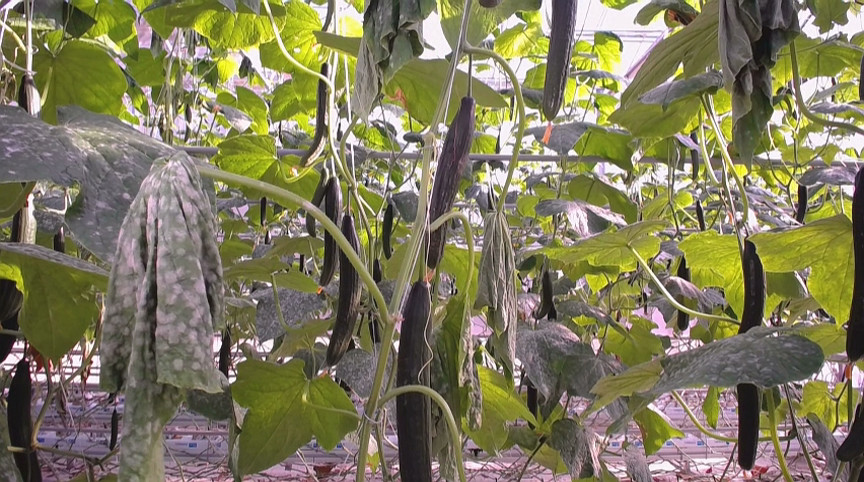cucumber: (427, 96, 477, 267), (399, 281, 433, 482), (326, 217, 359, 367), (544, 1, 580, 122), (8, 362, 39, 481), (301, 62, 332, 167), (319, 176, 343, 286), (738, 238, 763, 337), (737, 382, 759, 470), (19, 74, 45, 114)
